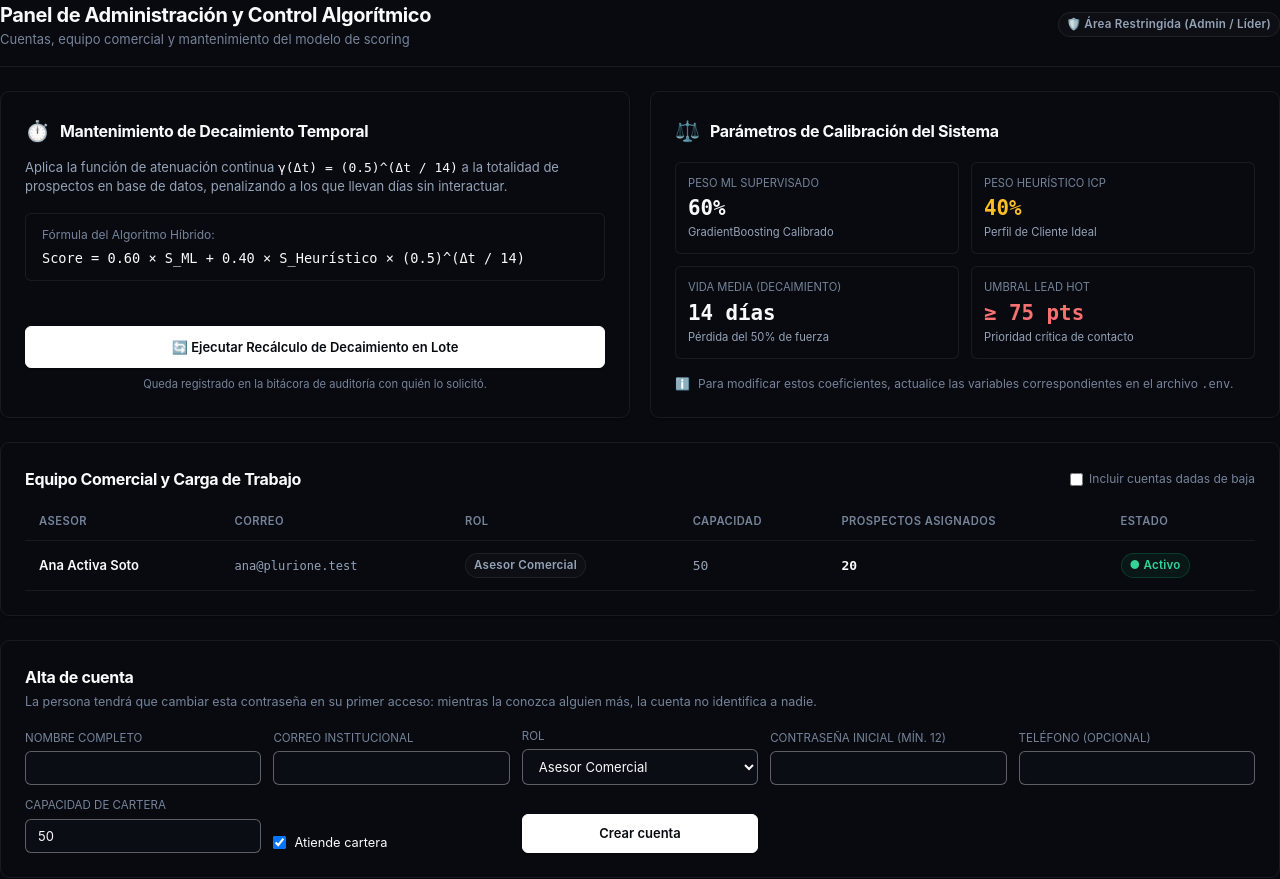
un 422 al dar de alta una cuenta › un error que no es de un campo sigue yendo al aviso general
Check: the heading "Alta de cuenta" is shown, box top-left (25, 667), bottom-right (134, 687)
In the field labelled "Nombre completo": (143, 768) top-left (25, 751), bottom-right (261, 785), type "Ana Nueva"
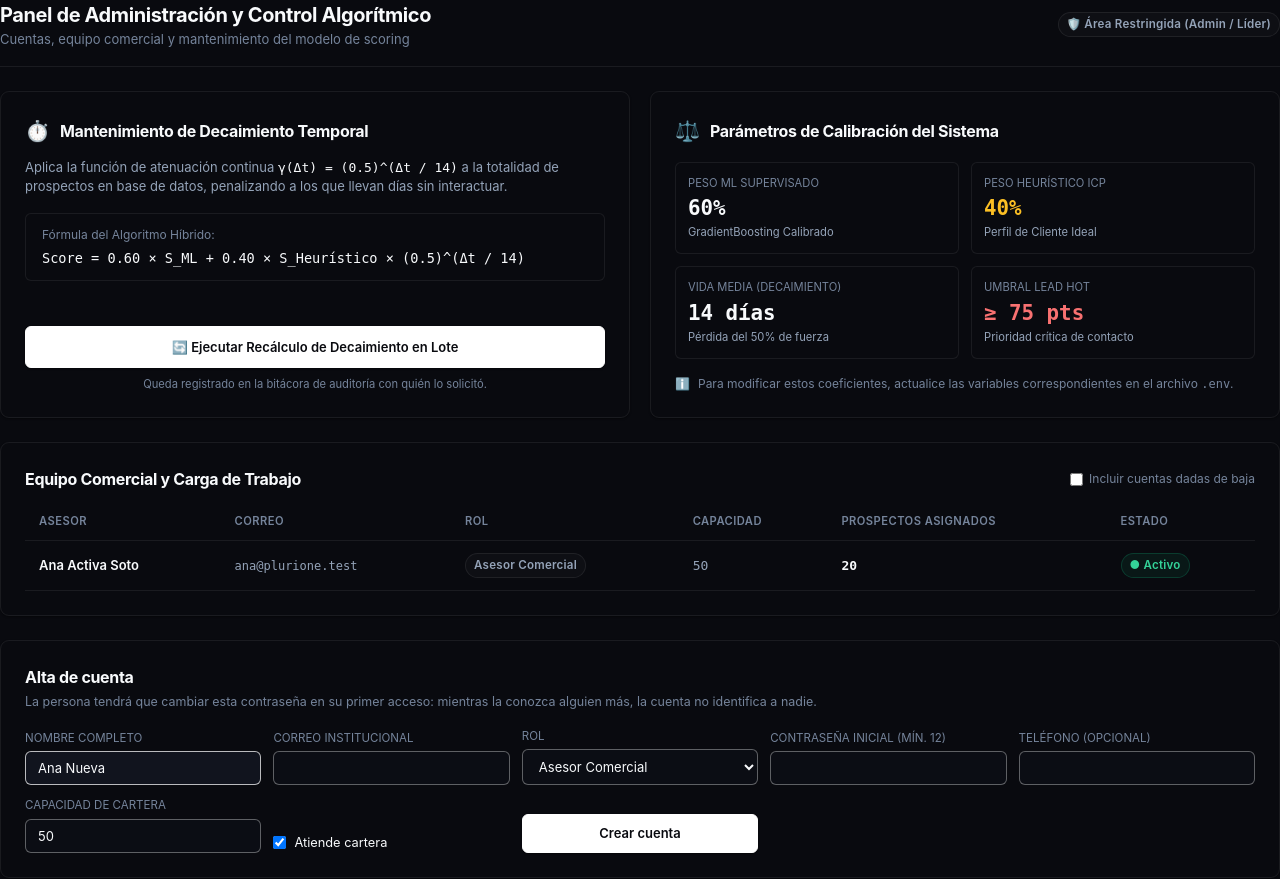
In the field labelled "Correo institucional": (392, 768) top-left (273, 751), bottom-right (510, 785), type "ana@plurione.test"
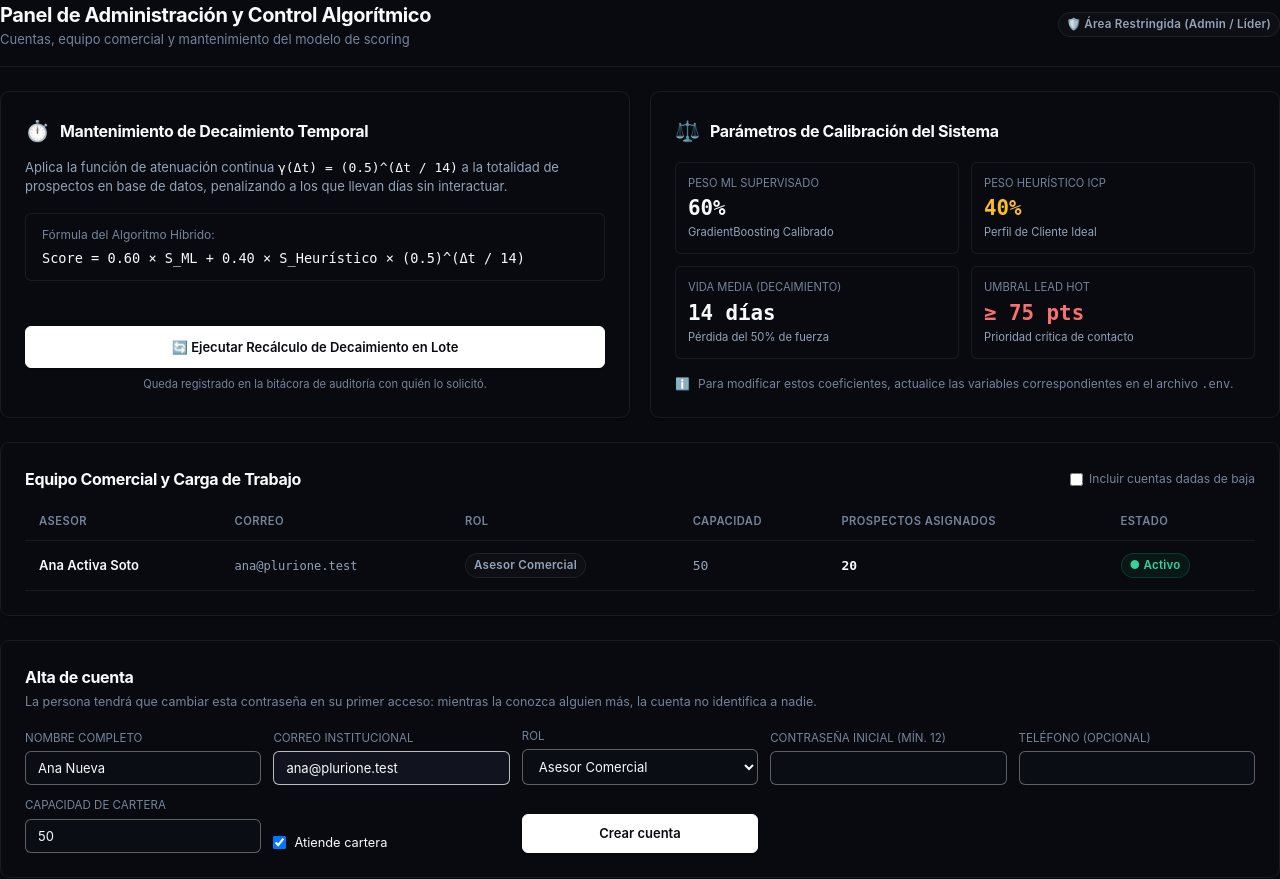
In the password field labelled "Contraseña inicial (mín. 12)": (888, 768) top-left (770, 751), bottom-right (1007, 785), type "unafraselargaybuena"
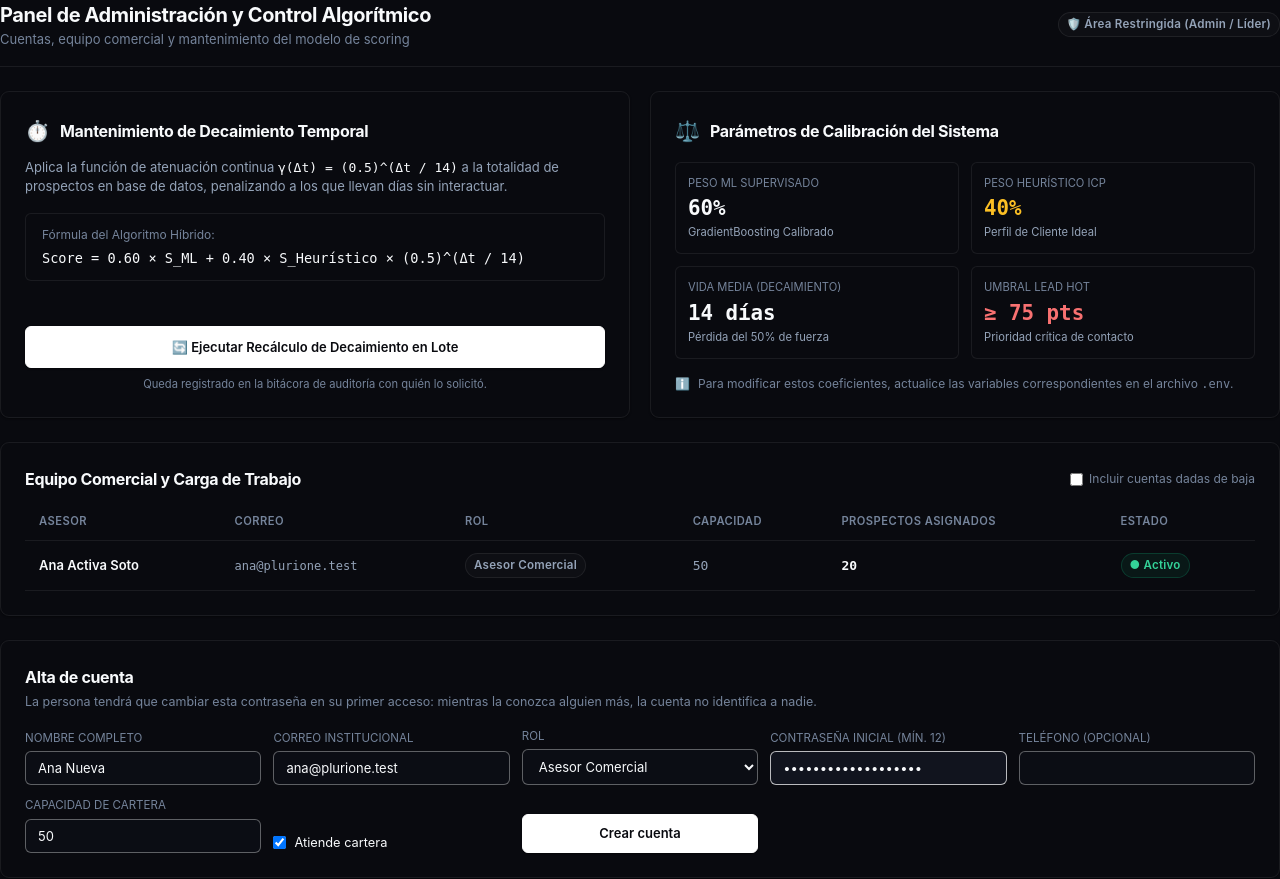
Click the button "Crear cuenta": (640, 833) top-left (522, 814), bottom-right (758, 853)
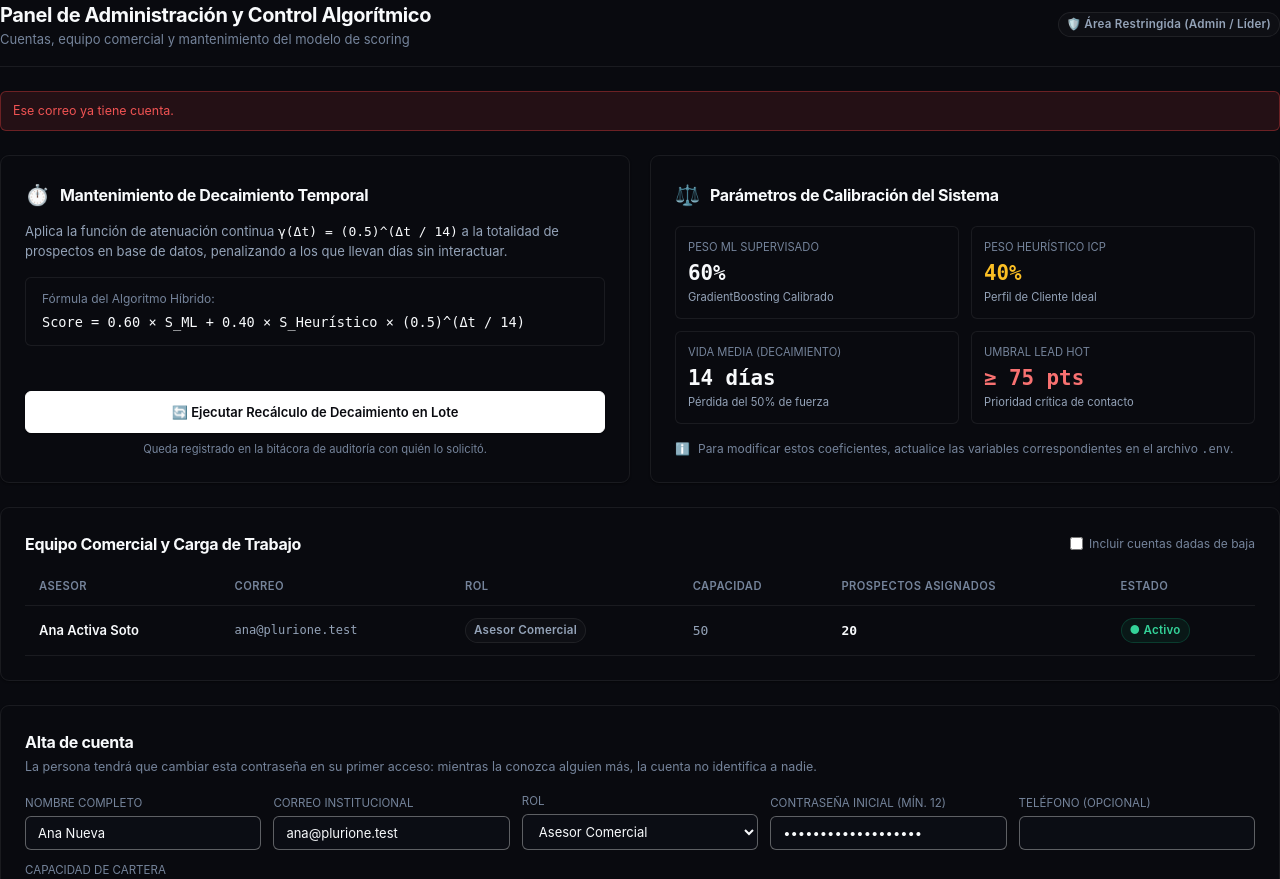
Check: the message shows "Ese correo ya tiene cuenta", box top-left (13, 102), bottom-right (174, 118)
